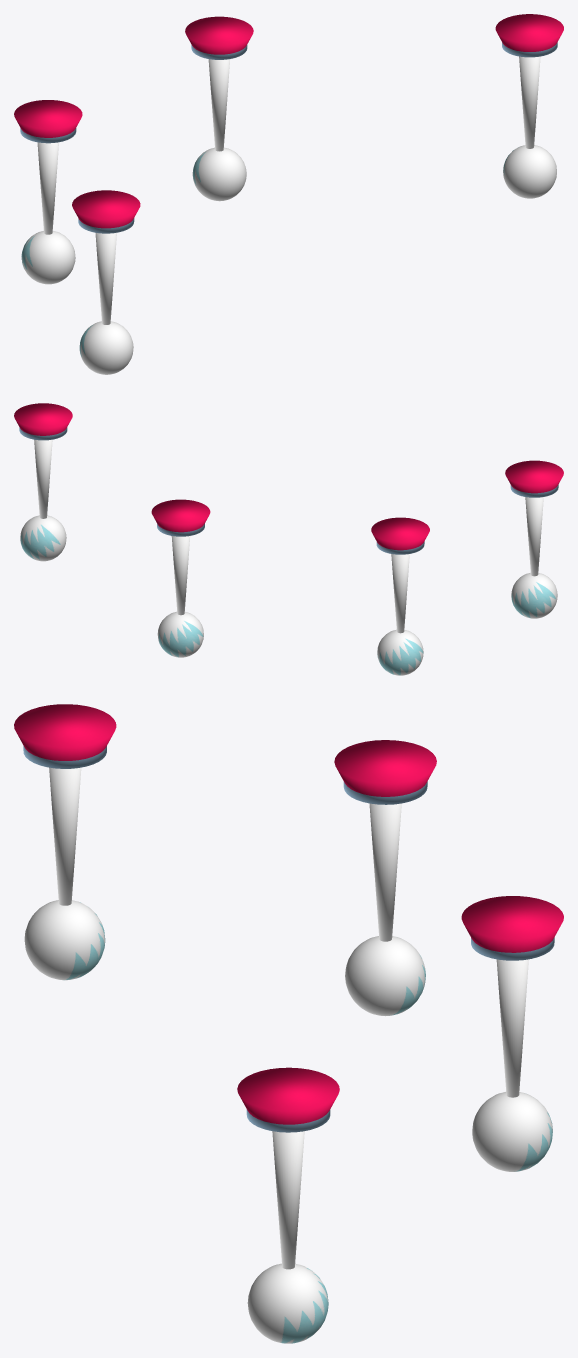
File: Sillas.obj
3 renders of one model, top to bottom at view 1: azimuth 30°, elevation 25°; view 2: azimuth 150°, elevation 25°; view 3: azimuth 270°, elevation 25°, orthographic. The views are drawn at different scales.
Visible parts, largest first — view 1: Circle.007, Circle.006, Circle.008, Circle.009, Sphere.002, Sphere, Sphere.003, Sphere.001; view 2: Circle.008, Circle.009, Circle.006, Circle.007, Sphere.003, Sphere.001, Sphere, Sphere.002; view 3: Circle.006, Circle.009, Circle.008, Circle.007, Sphere.002, Sphere, Sphere.003, Sphere.001.
Boxes of the visible parts, bbox=[...] form: Circle.007: bbox=[185, 16, 253, 151]; Circle.006: bbox=[14, 100, 82, 234]; Circle.008: bbox=[72, 190, 140, 324]; Circle.009: bbox=[495, 14, 563, 148]; Sphere.002: bbox=[79, 321, 133, 374]; Sphere: bbox=[21, 231, 75, 284]; Sphere.003: bbox=[503, 145, 556, 198]; Sphere.001: bbox=[192, 147, 246, 201]; Circle.008: bbox=[505, 460, 563, 576]; Circle.009: bbox=[14, 403, 72, 518]; Circle.006: bbox=[371, 517, 429, 633]; Circle.007: bbox=[151, 499, 210, 615]; Sphere.003: bbox=[20, 515, 66, 561]; Sphere.001: bbox=[157, 611, 203, 657]; Sphere: bbox=[377, 629, 423, 675]; Sphere.002: bbox=[511, 573, 557, 618]; Circle.006: bbox=[334, 740, 436, 941]; Circle.009: bbox=[237, 1067, 339, 1269]; Circle.008: bbox=[14, 704, 116, 905]; Circle.007: bbox=[461, 896, 563, 1097]; Sphere.002: bbox=[24, 900, 105, 980]; Sphere: bbox=[345, 936, 425, 1016]; Sphere.003: bbox=[247, 1263, 328, 1343]; Sphere.001: bbox=[472, 1092, 552, 1171].
Bounding box in the file's own units: 3.48 × 1 × 1.99.
Materials: 4 (4 with a texture image).
